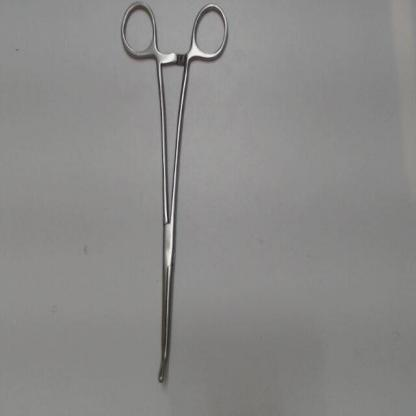Lahey Forceps: (113, 1, 235, 386)
